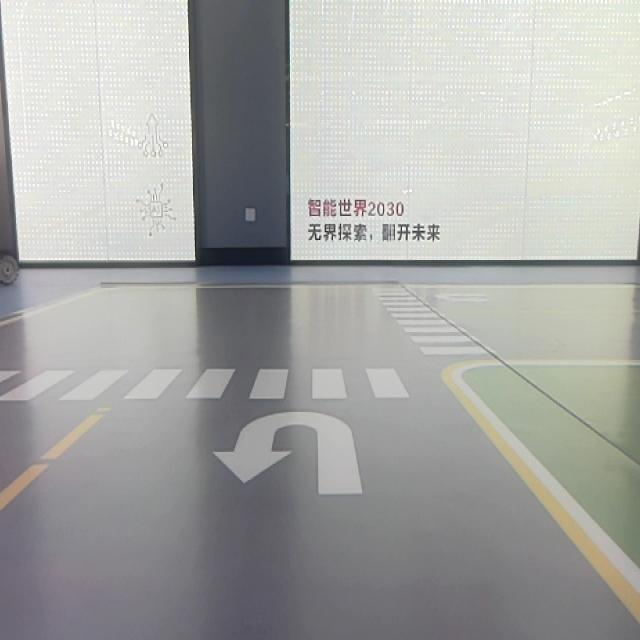left_lane: (0, 412, 96, 509)
right_lane: (447, 387, 640, 621)
